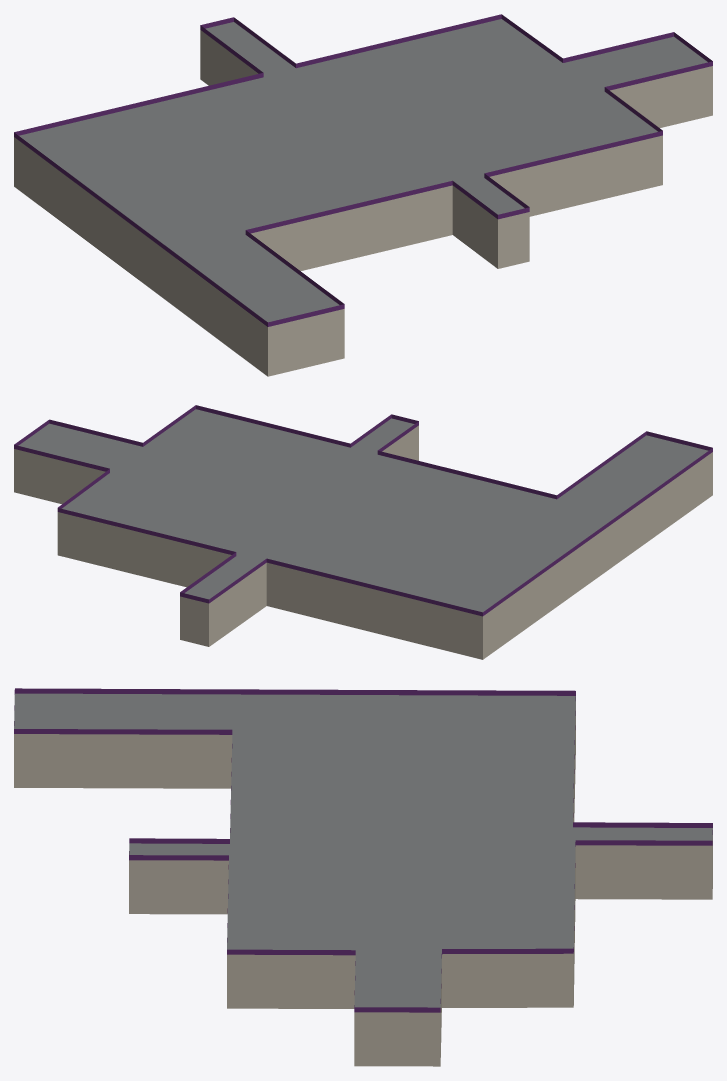
File: plaza-suka-ramai-lod2.glb
The picture shows the model from 3 angles, top to bottom: view 1: azimuth 30°, elevation 25°; view 2: azimuth 150°, elevation 25°; view 3: azimuth 270°, elevation 25°; orthographic projection. The views are drawn at different scales.
Parts seen in each view (by area): view 1: plaza-suka-ramai_LOD2; view 2: plaza-suka-ramai_LOD2; view 3: plaza-suka-ramai_LOD2.
Boxes of the visible parts, <box> form: plaza-suka-ramai_LOD2: <box>14,14,712,376</box>; plaza-suka-ramai_LOD2: <box>14,405,712,659</box>; plaza-suka-ramai_LOD2: <box>14,688,712,1066</box>.
Bounding box in the file's own units: 175 × 15.1 × 162.
